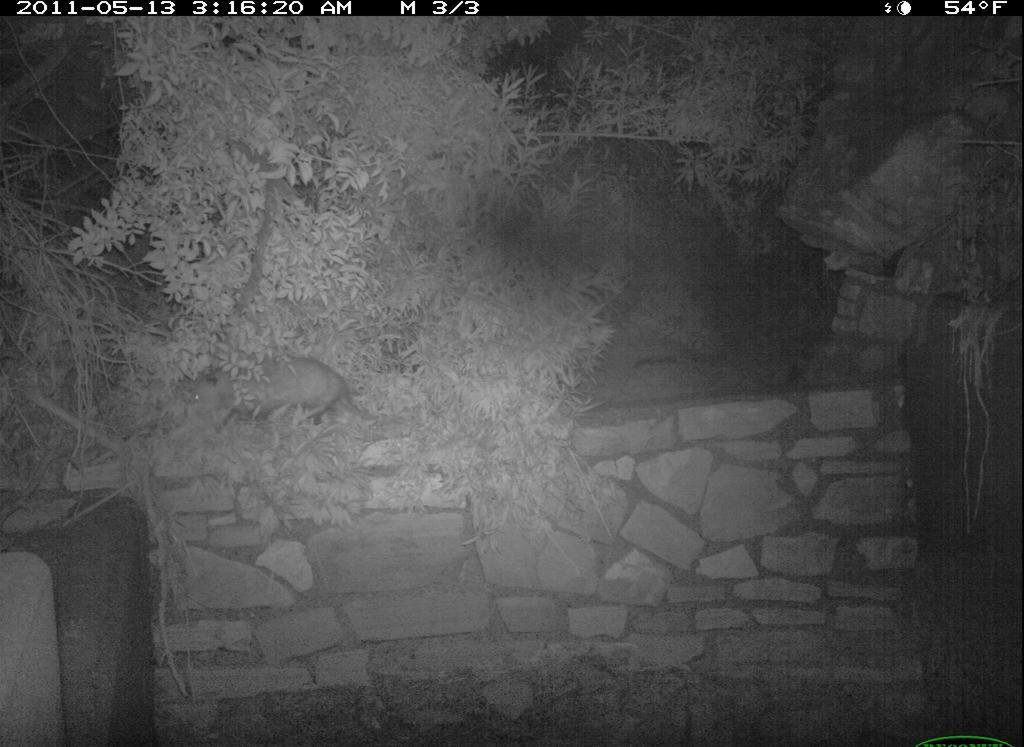opossum: (188, 329, 392, 445)
